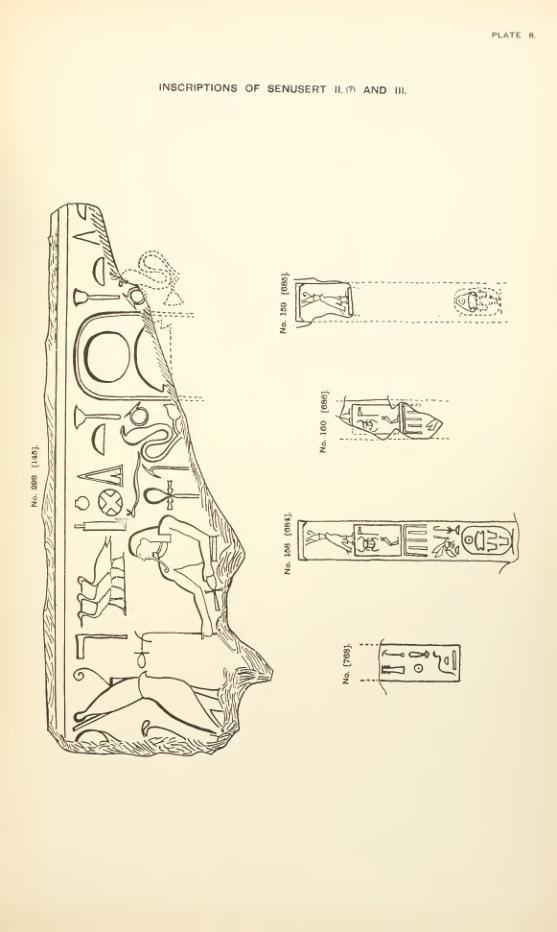circle: (461, 524, 517, 558)
